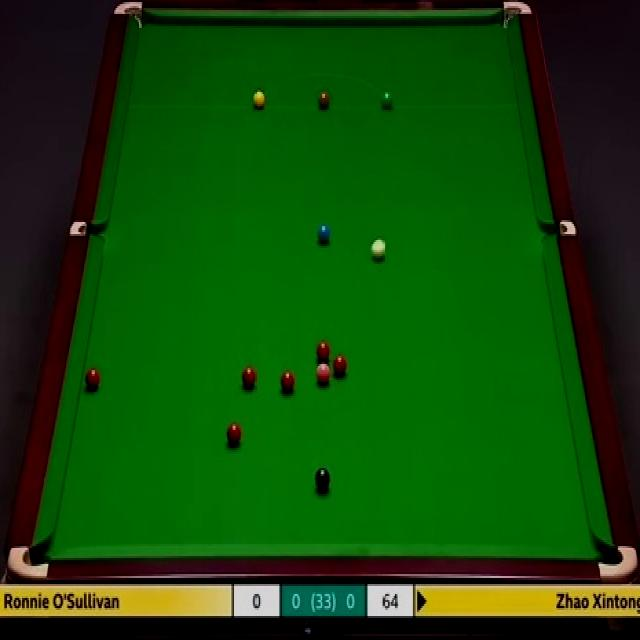black-ball: (314, 465, 331, 489)
blue-ball: (316, 225, 331, 242)
brown-ball: (319, 90, 330, 110)
green-ball: (381, 92, 394, 110)
pink-ball: (316, 361, 332, 382)
red-ball: (226, 422, 242, 446), (332, 354, 347, 379), (242, 365, 257, 389), (281, 370, 297, 392), (315, 342, 332, 361), (86, 368, 100, 390)
white-ball: (369, 238, 385, 260)
yellow-ball: (253, 90, 265, 110)
